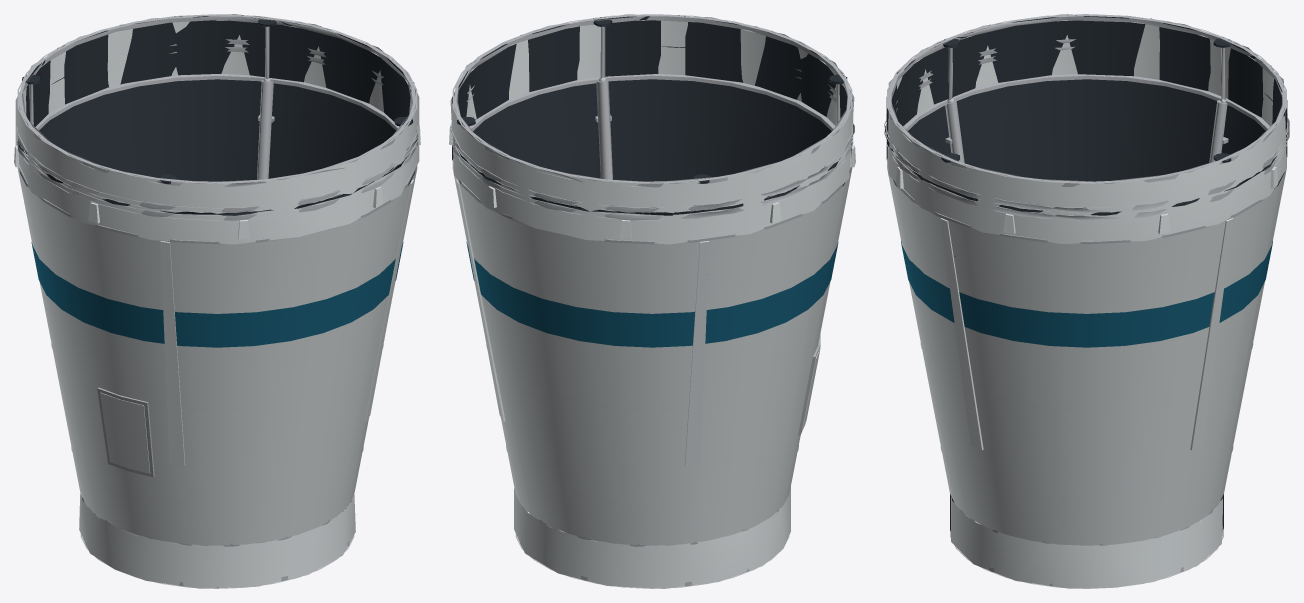
The model's file is interstage_pneumatic_d37_to_d54.glb.
3 renders of one model, left to right at view 1: azimuth 30°, elevation 25°; view 2: azimuth 150°, elevation 25°; view 3: azimuth 270°, elevation 25°, orthographic.
Parts seen in each view (by area): view 1: interstage_pneumatic_d37_to_d54_mesh; view 2: interstage_pneumatic_d37_to_d54_mesh; view 3: interstage_pneumatic_d37_to_d54_mesh.
Boxes of the visible parts, bbox=[...] form: interstage_pneumatic_d37_to_d54_mesh: bbox=[14, 14, 420, 588]; interstage_pneumatic_d37_to_d54_mesh: bbox=[449, 14, 855, 588]; interstage_pneumatic_d37_to_d54_mesh: bbox=[884, 14, 1289, 588].
Bounding box in the file's own units: 5.43 × 6.4 × 5.45.
